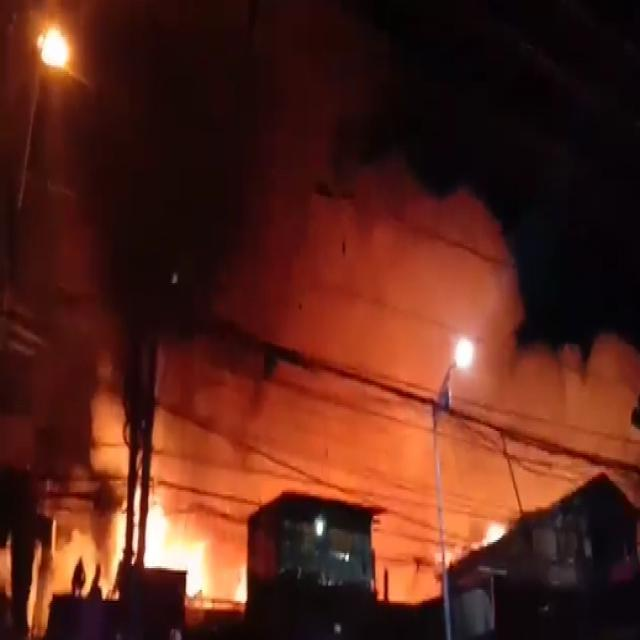Smoke: (264, 155, 413, 476), (153, 337, 250, 569), (406, 188, 514, 336)
